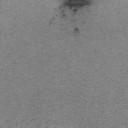iron sheet ash: (60, 0, 92, 18), (74, 28, 78, 32)
